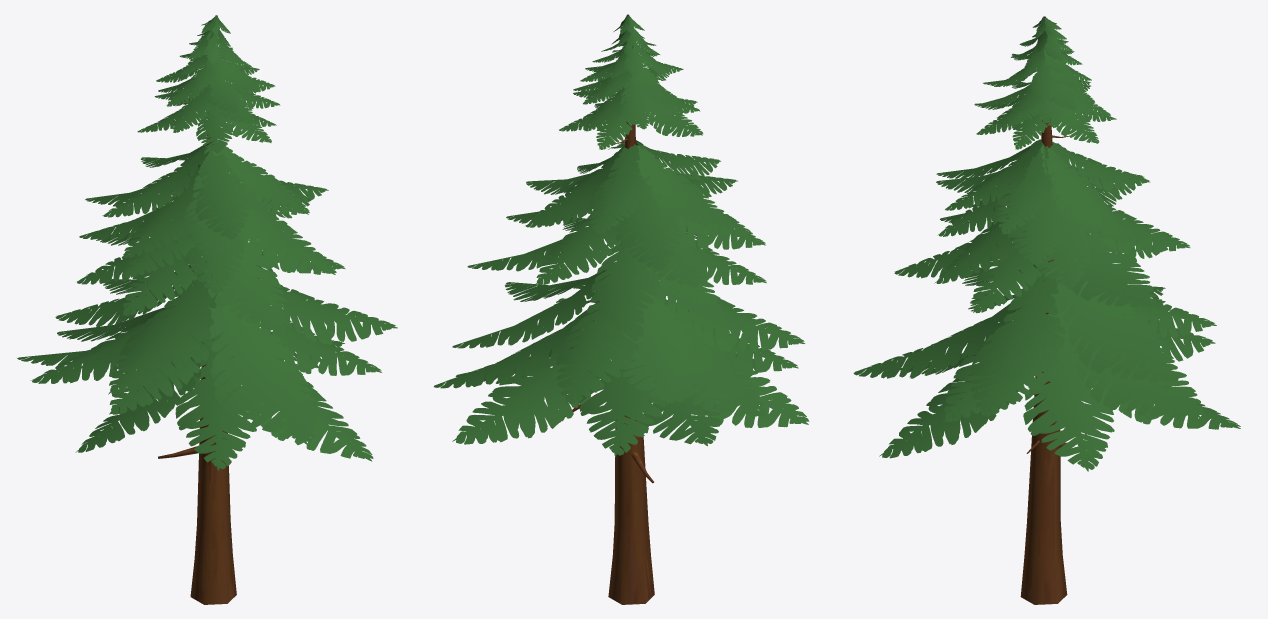
Rendered from STPine4.glb.
3 views of the same model, side by side, from view 1: azimuth 30°, elevation 25°; view 2: azimuth 150°, elevation 25°; view 3: azimuth 270°, elevation 25° (orthographic).
Visible parts, largest first — view 1: STPine4_Leaves, STPine4_Trunk; view 2: STPine4_Leaves, STPine4_Trunk; view 3: STPine4_Leaves, STPine4_Trunk.
Boxes of the visible parts, x1,y1,x2,y2 form: STPine4_Leaves: (17,16,397,470); STPine4_Trunk: (158,15,236,604); STPine4_Leaves: (434,15,809,456); STPine4_Trunk: (565,14,654,604); STPine4_Leaves: (853,17,1240,471); STPine4_Trunk: (1020,16,1086,604).
Bounding box in the file's own units: 7.46 × 12.62 × 7.91.
2 materials, 2 textured.
